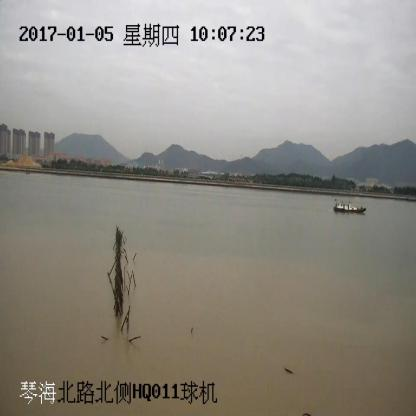Fishing Boat: (333, 198, 367, 215)
